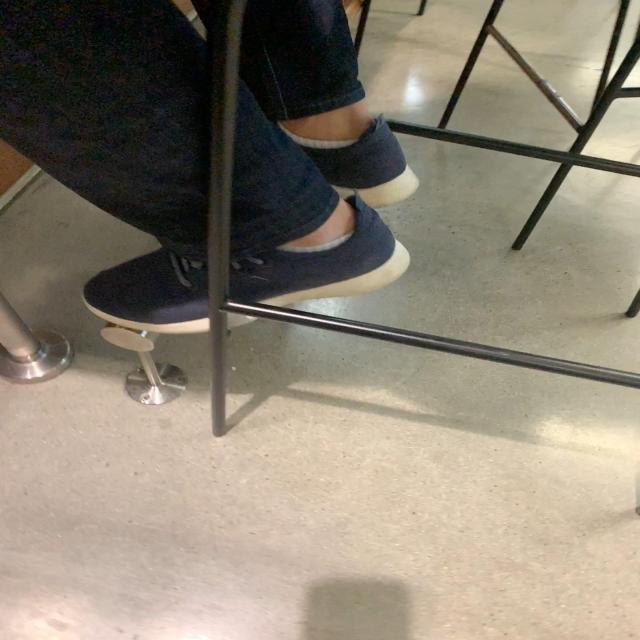shoe: (77, 193, 422, 331)
